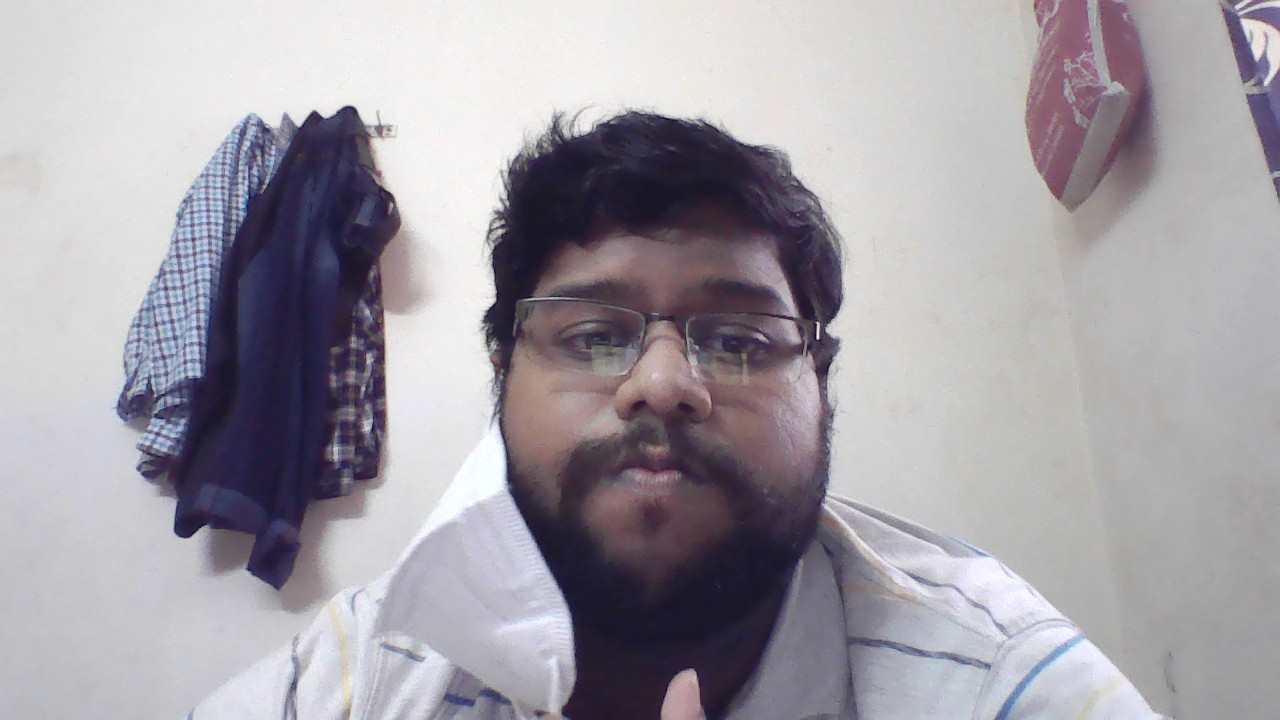NoMask: (483, 377, 855, 578)
